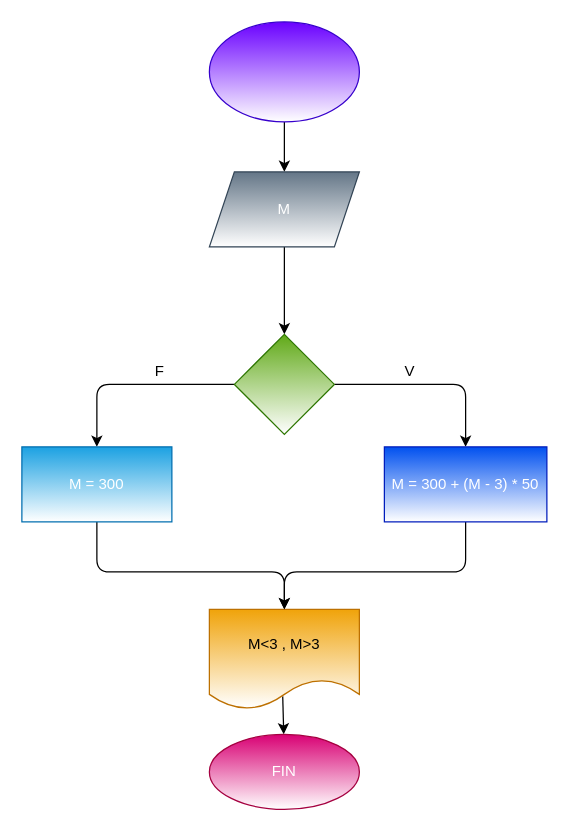
The diagram is 569 pixels wide and 831 high, and some of its shapes have lost their labels. The centre of each missing label's shape, as x and y in pixels:
INICIO: [283,71]
M > 3: [283,383]
